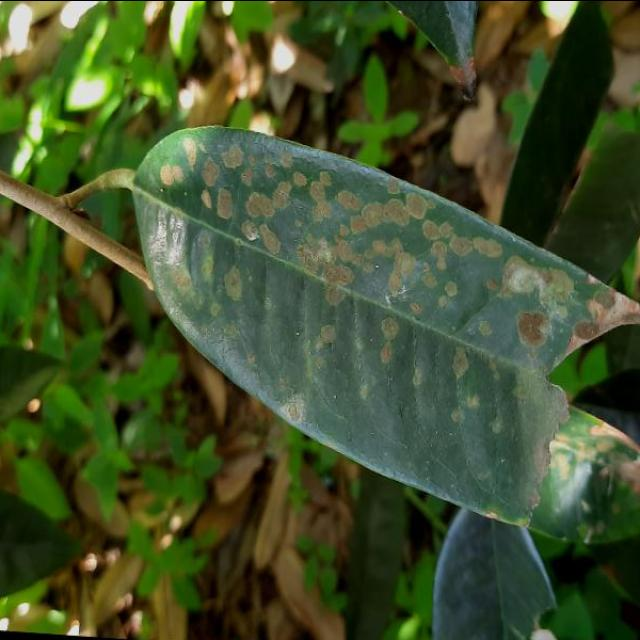Algal Leaf Spot: (106, 103, 640, 539)
